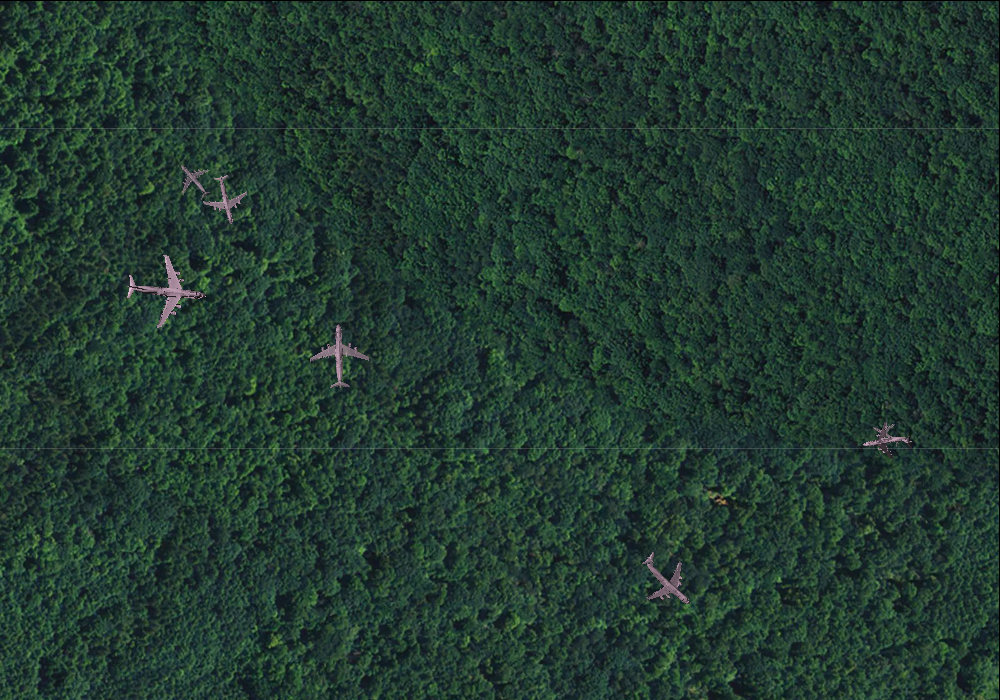plane: (624, 537, 711, 624), (122, 249, 209, 332), (308, 323, 369, 389), (197, 169, 254, 229), (165, 152, 221, 208), (859, 416, 915, 469), (865, 415, 907, 456)
